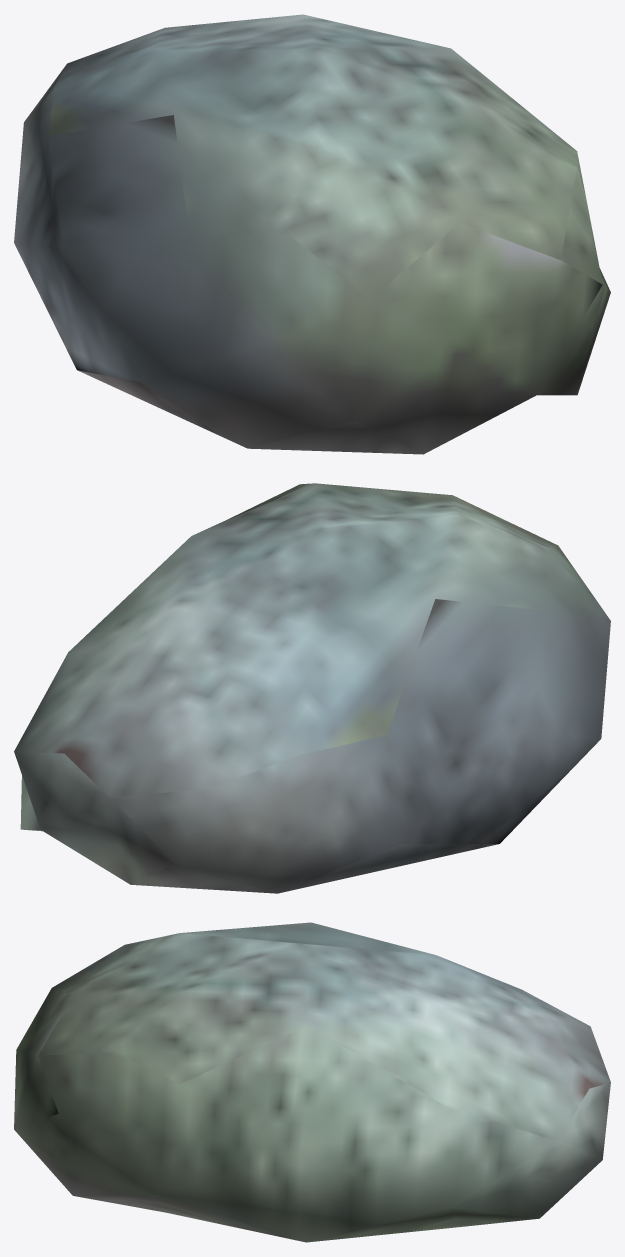
File: Rocks 06.glb
3 views of the same model, one above another, from view 1: azimuth 30°, elevation 25°; view 2: azimuth 150°, elevation 25°; view 3: azimuth 270°, elevation 25° (orthographic). The views are drawn at different scales.
Parts seen in each view (by area): view 1: Rock 06; view 2: Rock 06; view 3: Rock 06.
Part boxes in pixels (left/top/right/bottom): Rock 06: left=14, top=14, right=610, bottom=454; Rock 06: left=14, top=483, right=610, bottom=893; Rock 06: left=14, top=922, right=610, bottom=1242.
Size of what is drawn, in the model's own units: 0.7671 by 0.4674 by 1.06.
1 material, 1 textured.
